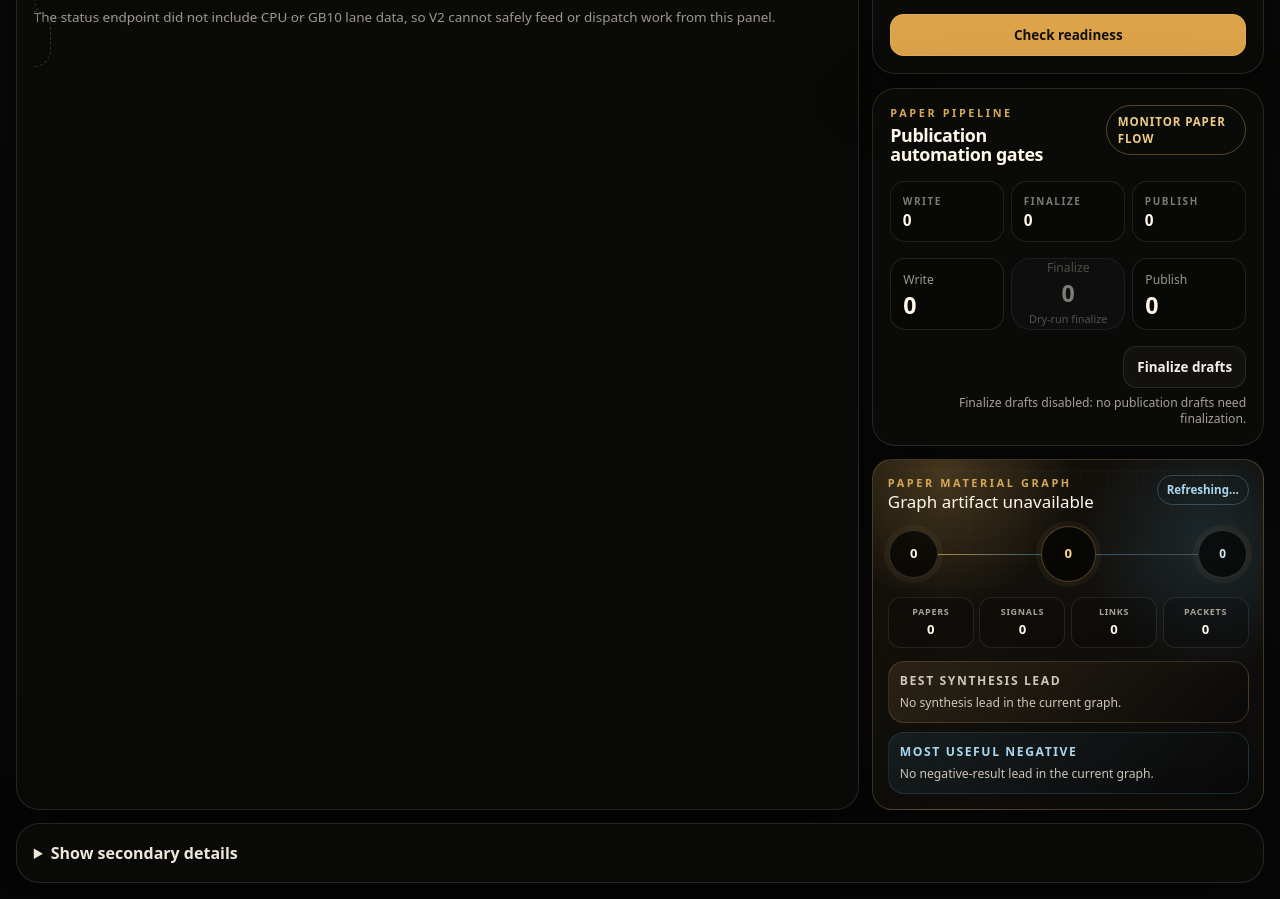
Test: surfaces secondary top actions while maintenance blocks the primary action
This screenshot has width=1280, height=899.
(page scrolled)
Expected: the text "Show secondary details" is shown, [16,823,1264,883]
Expected: the field labelled "Top actions" is not shown
Click the heading "Show secondary details" at (144, 853), box [51,842,238,864]
(page scrolled)
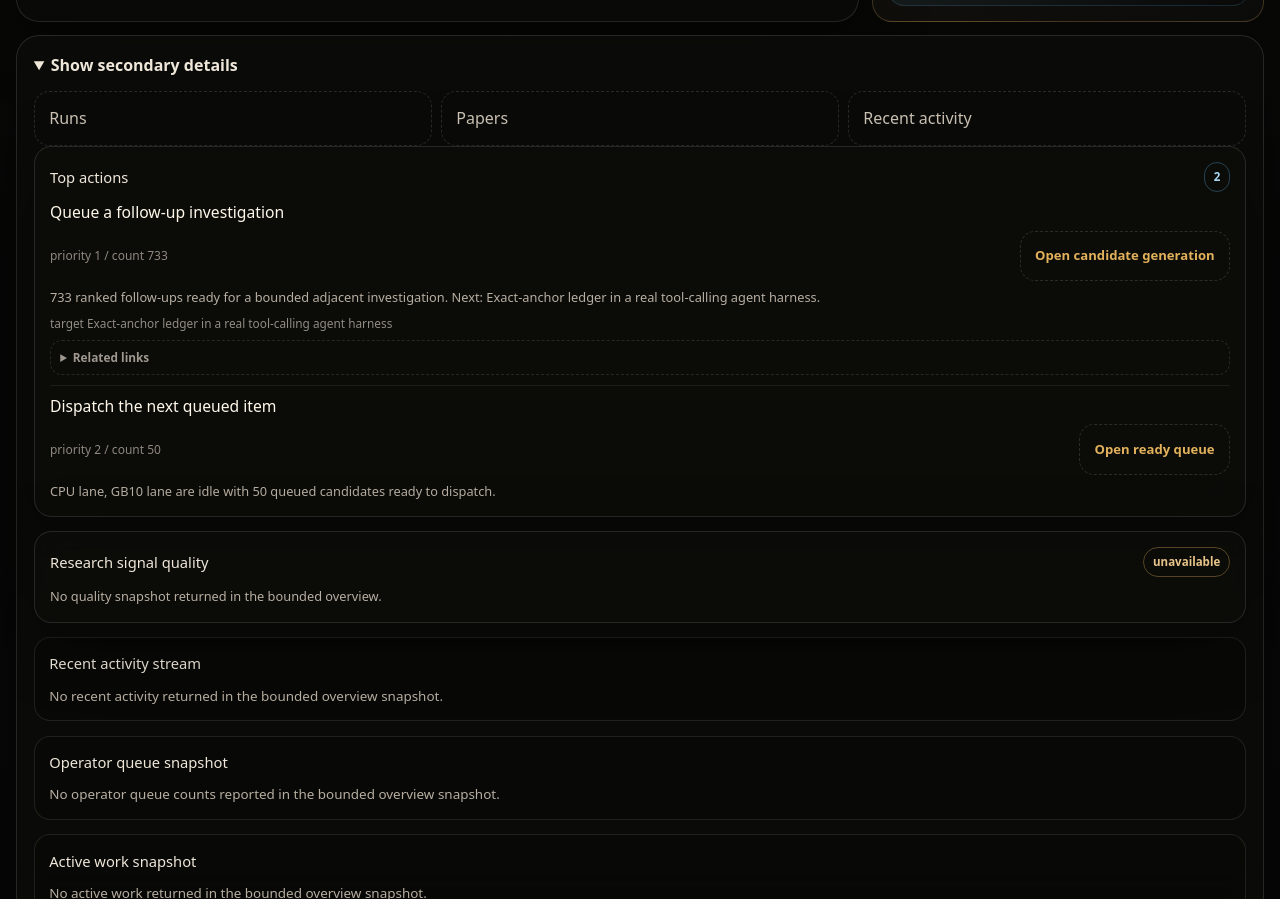
Now the element labelled "Top actions" is shown, box [34,146,1246,517]
Now the heading "Queue a follow-up investigation" is shown, box [50,201,284,223]
Now the text "priority 1 / count 733" is shown, box [50,247,168,265]
